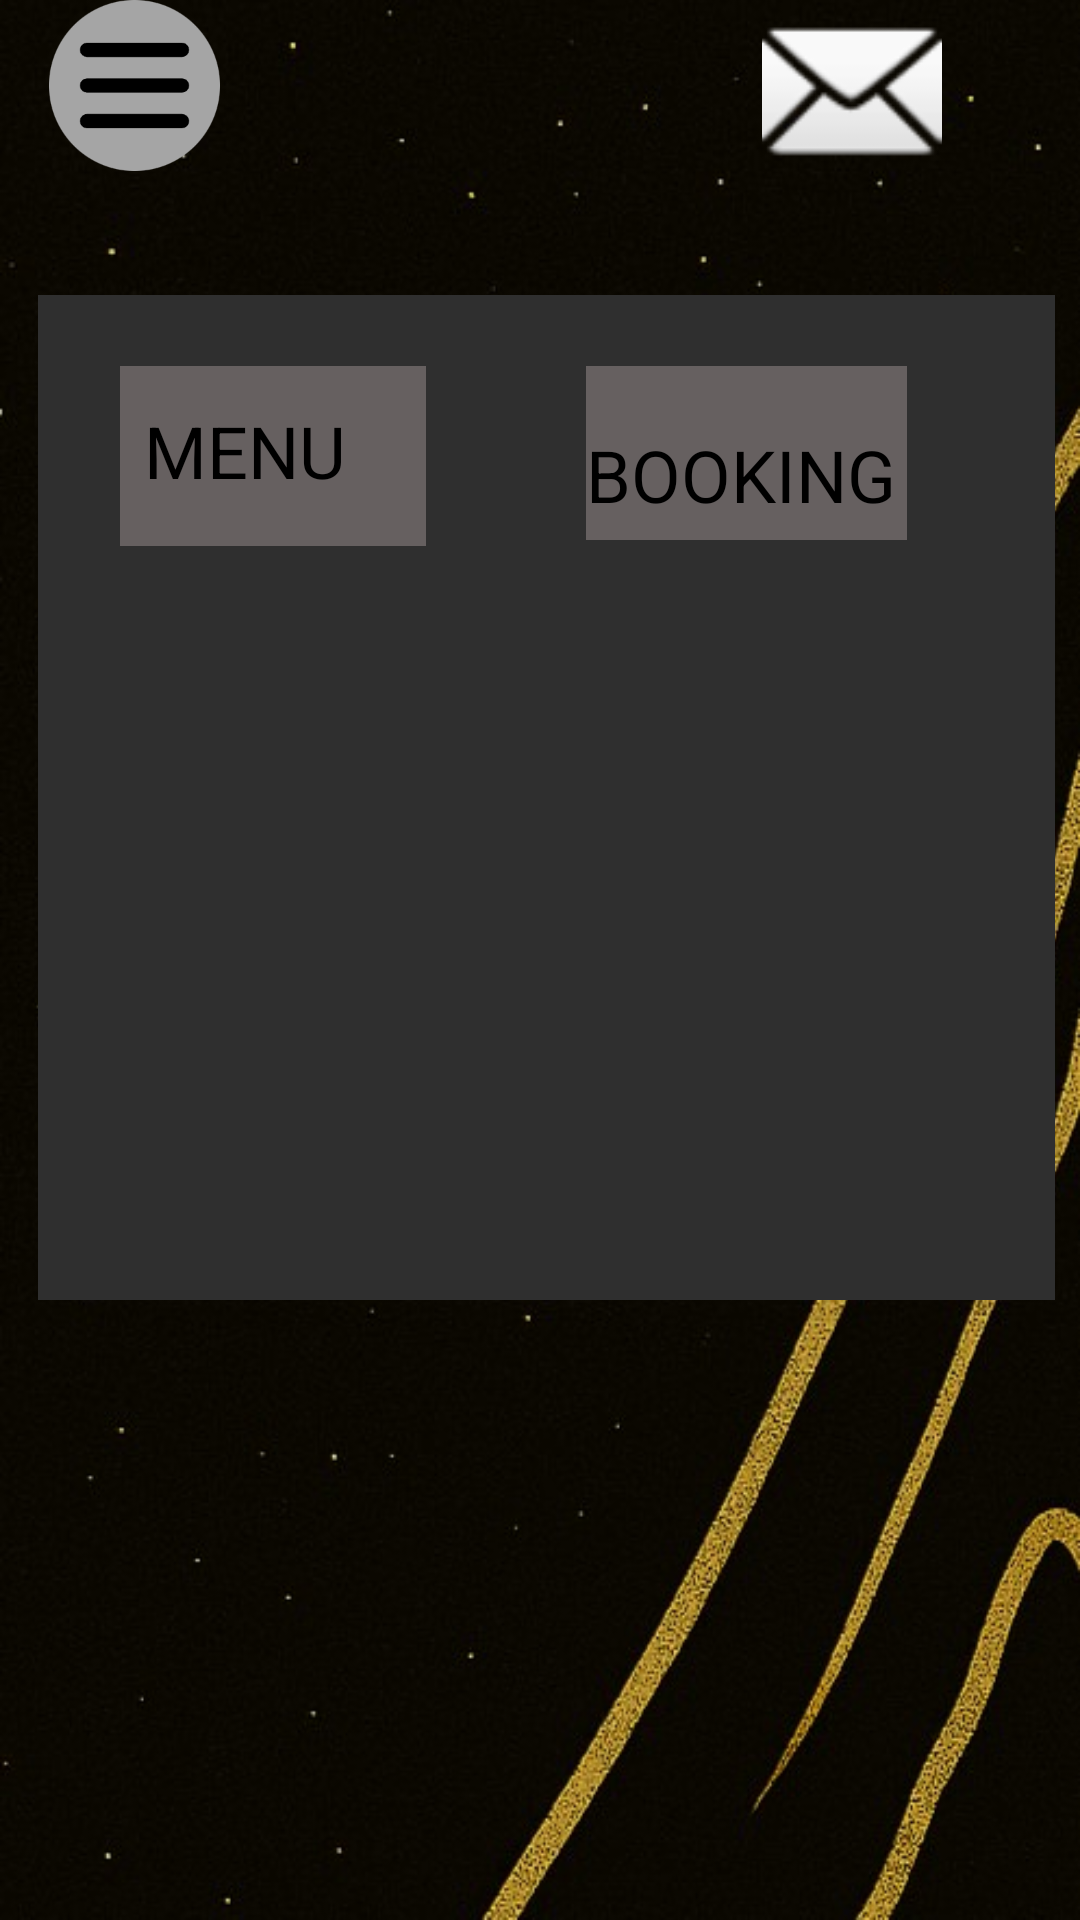

Screen size 1080 x 1920. Icon name, then its center in pixels as point (x, y):
burger menu: point (134, 85)
email: point (846, 103)
